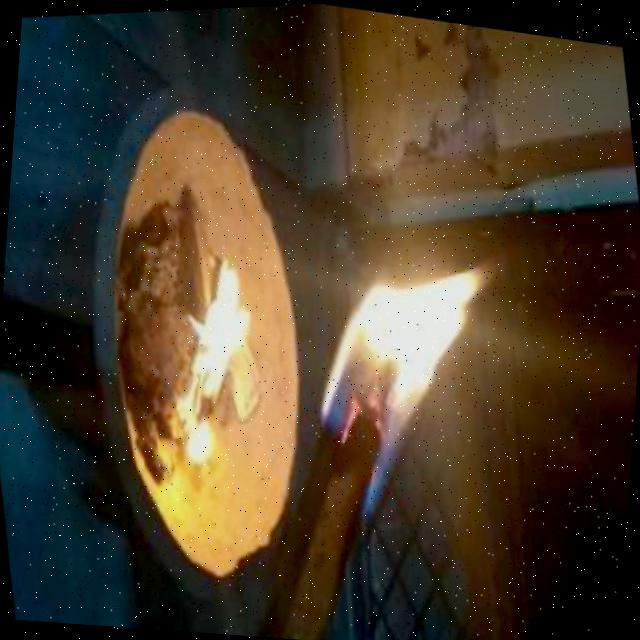fire: (317, 257, 484, 459), (144, 260, 275, 464)
